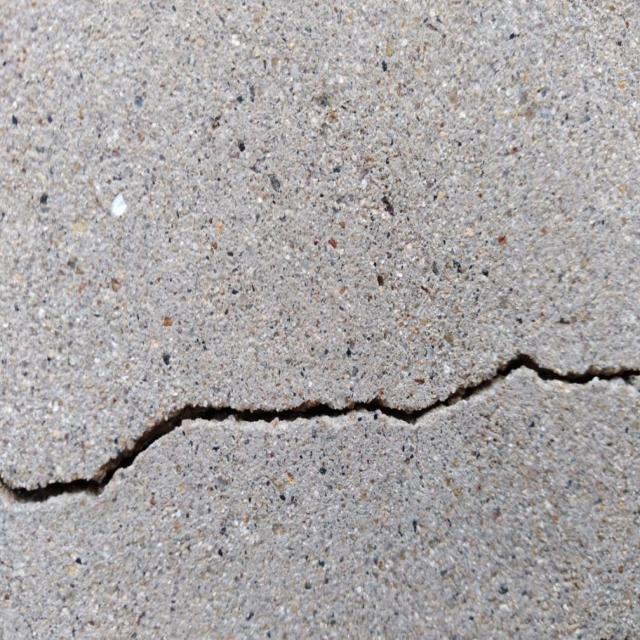horizontal crack: (0, 349, 639, 501)
